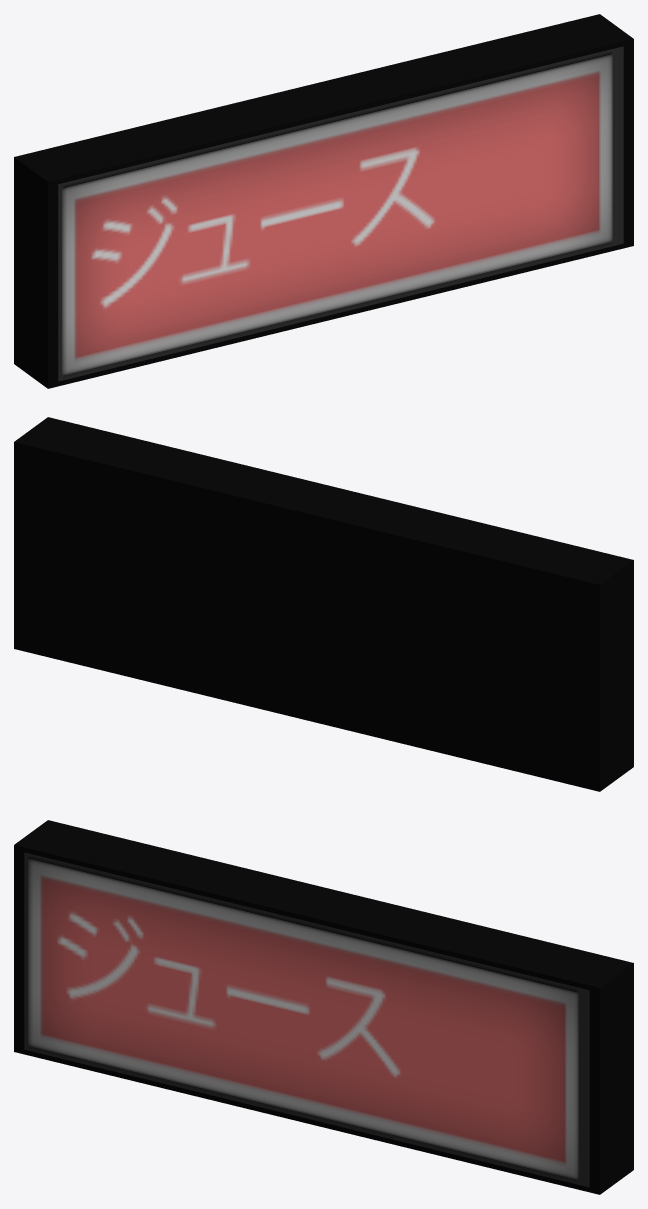
The model's file is WideSign2.fbx.
3 views of the same model, one above another, from view 1: azimuth 30°, elevation 25°; view 2: azimuth 150°, elevation 25°; view 3: azimuth 330°, elevation 25° (orthographic).
Parts seen in each view (by area): view 1: Cube; view 2: Cube; view 3: Cube.
Boxes of the visible parts, left/top/right/bottom form: Cube: left=14, top=14, right=633, bottom=388; Cube: left=14, top=417, right=633, bottom=791; Cube: left=14, top=820, right=633, bottom=1194.
Size of the model in its own units: 360 by 121 by 36.18.
